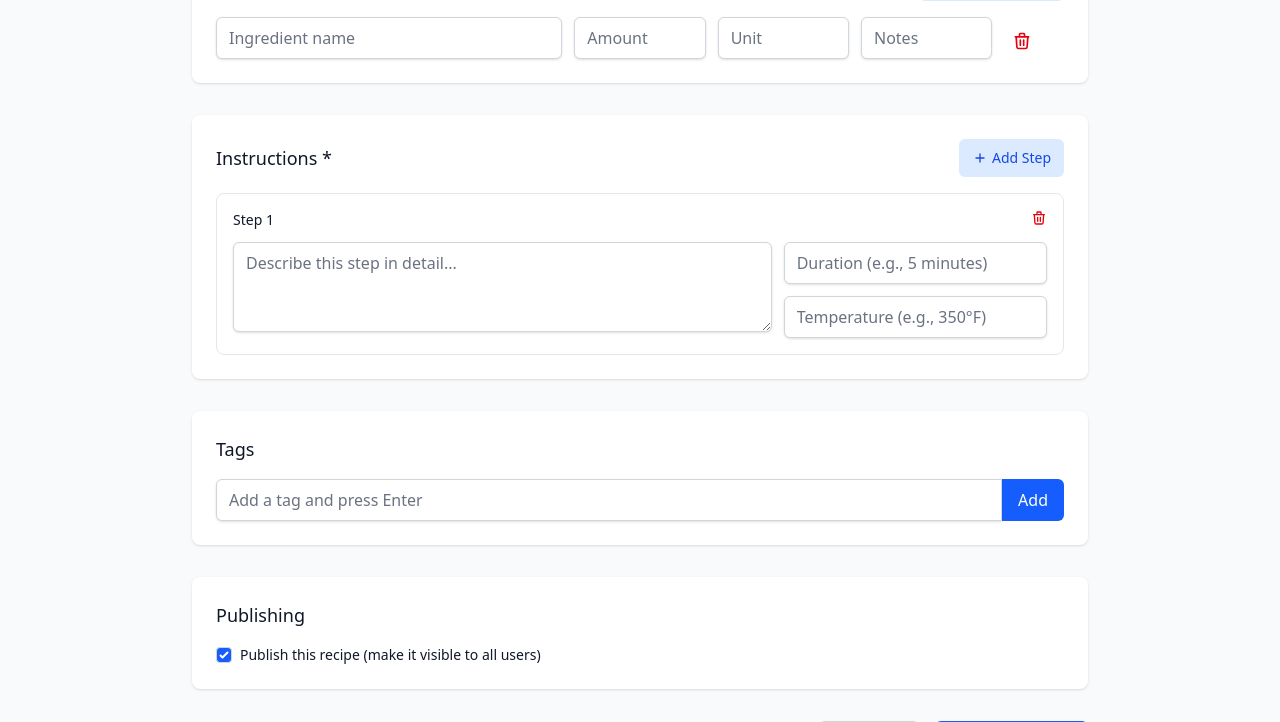
Test: RecipeForm › Create Mode › manages tags correctly
This screenshot has width=1280, height=722.
(page scrolled)
# Add tag by typing and pressing Enter
Type "breakfast" into the field with placeholder "Add a tag and press Enter" at (609, 500), box [216, 479, 1002, 521]
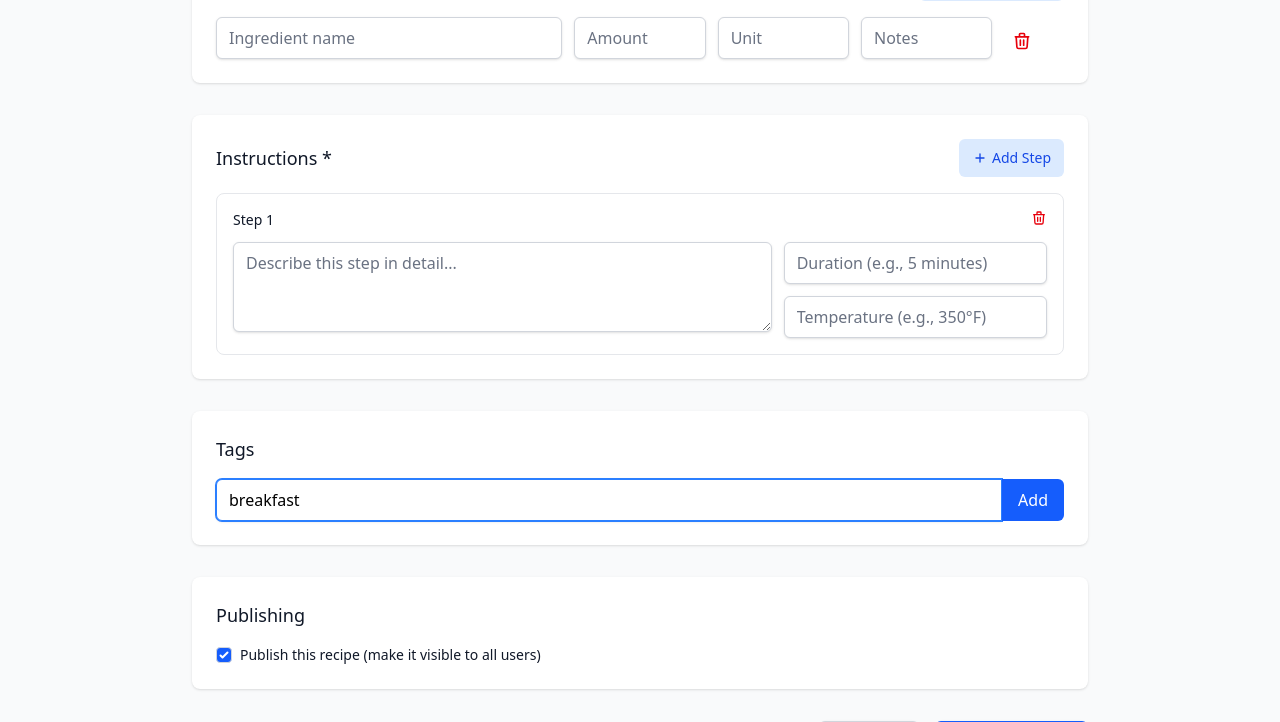
Press Enter
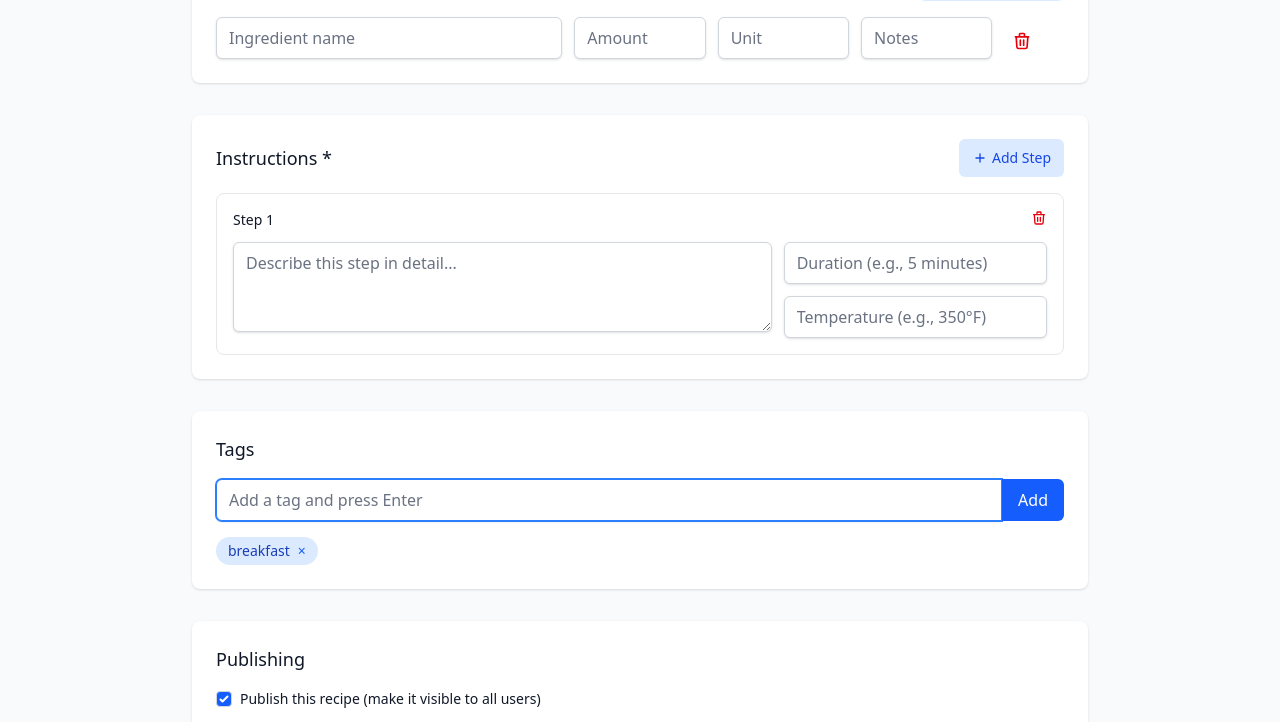
Now the text "breakfast" is shown, box [228, 541, 290, 560]
Now the field with placeholder "Add a tag and press Enter" is empty, box [216, 479, 1002, 521]
# Remove tag
Click the button "×" at (302, 551), box [298, 541, 306, 561]
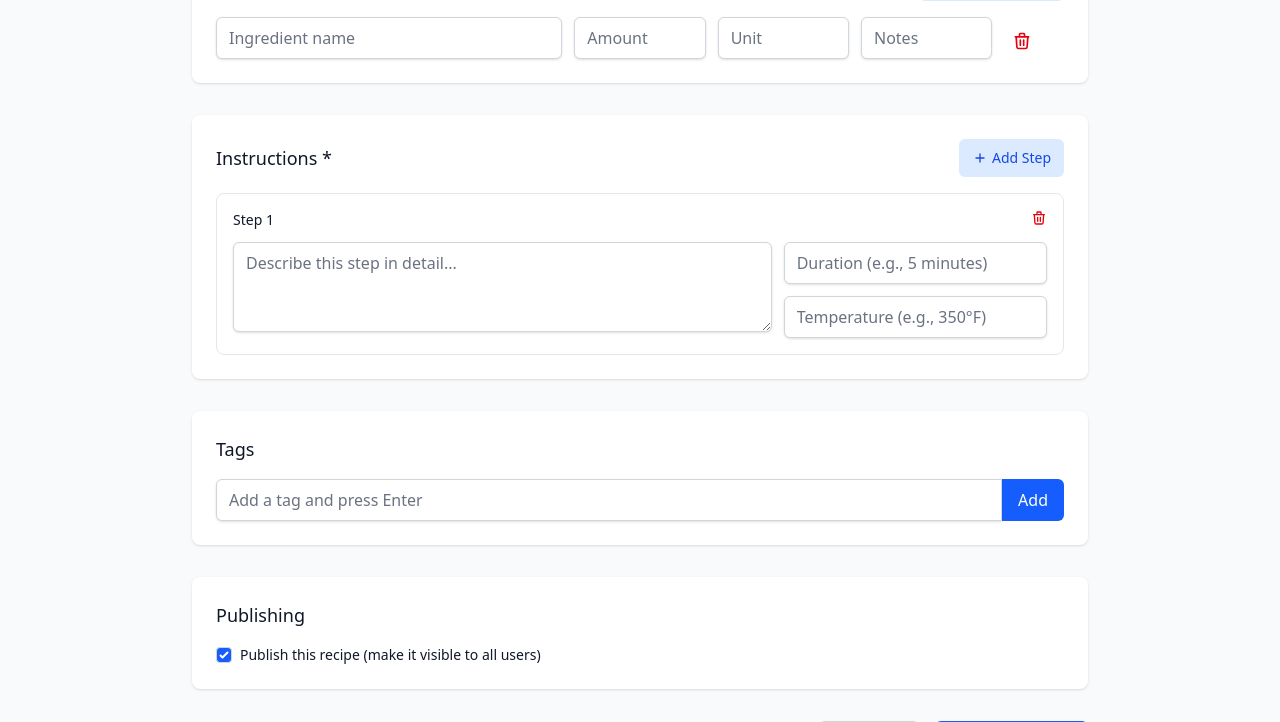
Now the text "breakfast" is gone
